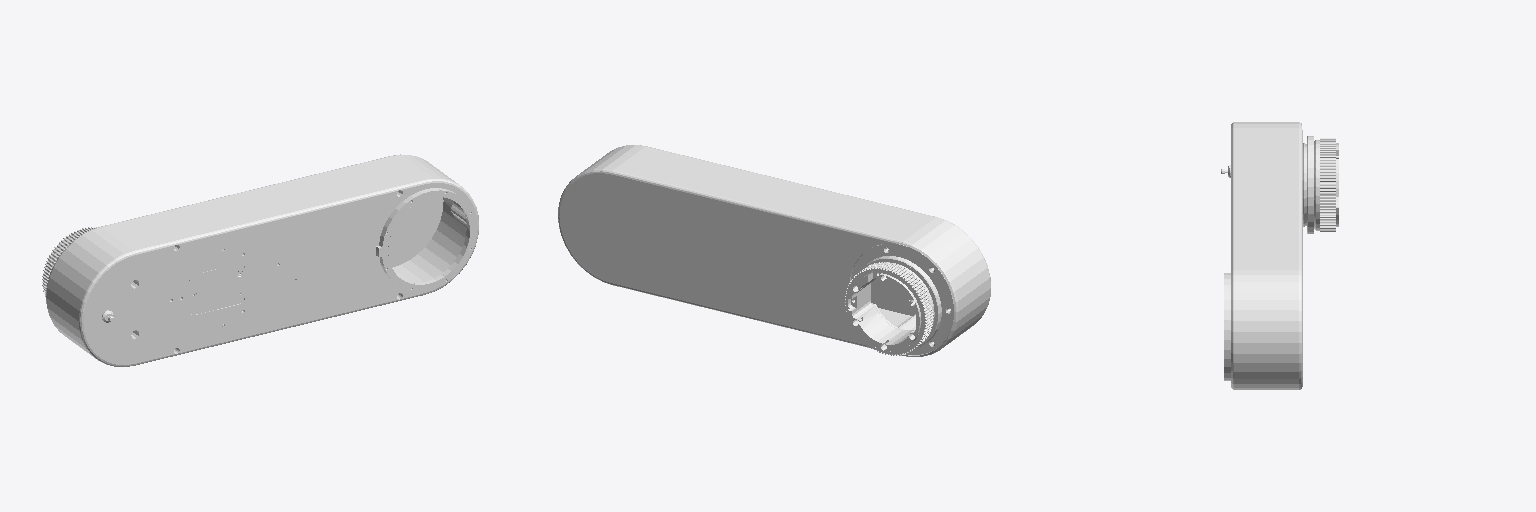
The model's file is InnerArm.obj.
3 renders of one model, left to right at view 1: azimuth 30°, elevation 25°; view 2: azimuth 150°, elevation 25°; view 3: azimuth 270°, elevation 25°, orthographic.
Size of the model in its own units: 0.416 by 0.114 by 0.1059.